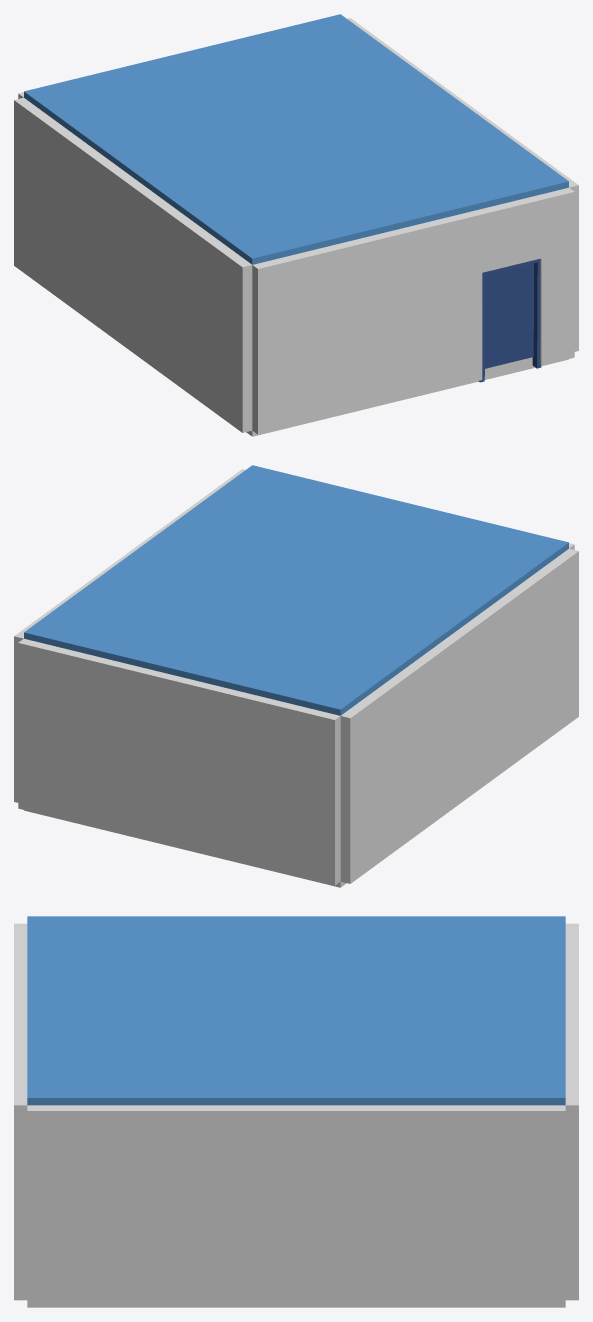
The model's file is 物理实验室.fbx.
3 renders of one model, top to bottom at view 1: azimuth 30°, elevation 25°; view 2: azimuth 150°, elevation 25°; view 3: azimuth 270°, elevation 25°, orthographic. The views are drawn at different scales.
Parts seen in each view (by area): view 1: 天花板, 墙4, 墙1, 门, 墙2, 门框, 地板; view 2: 天花板, 墙3, 墙1, 墙2; view 3: 墙2, 天花板, 墙3, 墙4, 地板.
Boxes of the visible parts, left/top/right/bottom form: 天花板: left=24, top=14, right=568, bottom=264; 墙4: left=252, top=187, right=574, bottom=434; 墙1: left=14, top=97, right=252, bottom=432; 门: left=485, top=263, right=533, bottom=368; 墙2: left=347, top=18, right=578, bottom=351; 门框: left=478, top=259, right=541, bottom=382; 地板: left=246, top=357, right=568, bottom=436; 天花板: left=24, top=465, right=568, bottom=715; 墙3: left=18, top=638, right=340, bottom=885; 墙1: left=340, top=548, right=578, bottom=883; 墙2: left=14, top=469, right=245, bottom=802; 墙2: left=27, top=1105, right=565, bottom=1306; 天花板: left=27, top=916, right=565, bottom=1105; 墙3: left=565, top=923, right=578, bottom=1300; 墙4: left=14, top=923, right=27, bottom=1300; 地板: left=27, top=1306, right=565, bottom=1307.
Bounding box in the file's own units: 17000 × 8600 × 21000.
